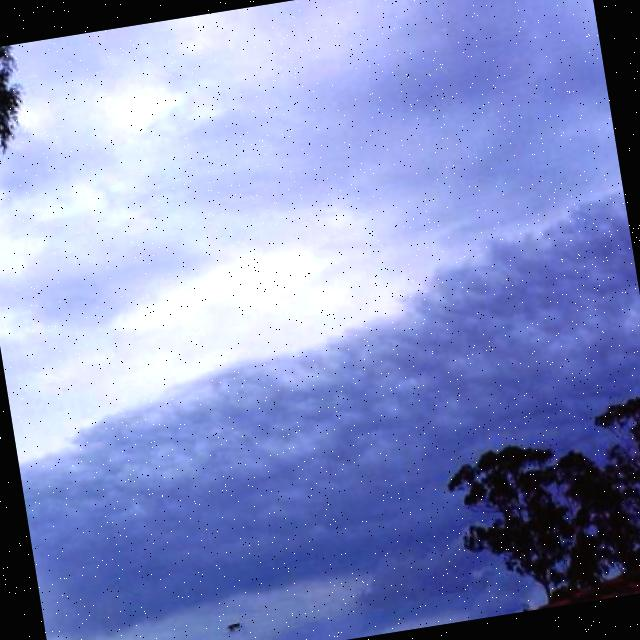Sc: (1, 47, 640, 494)
